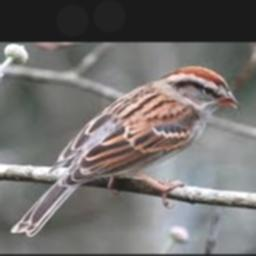Sparrow: (11, 65, 241, 238)
